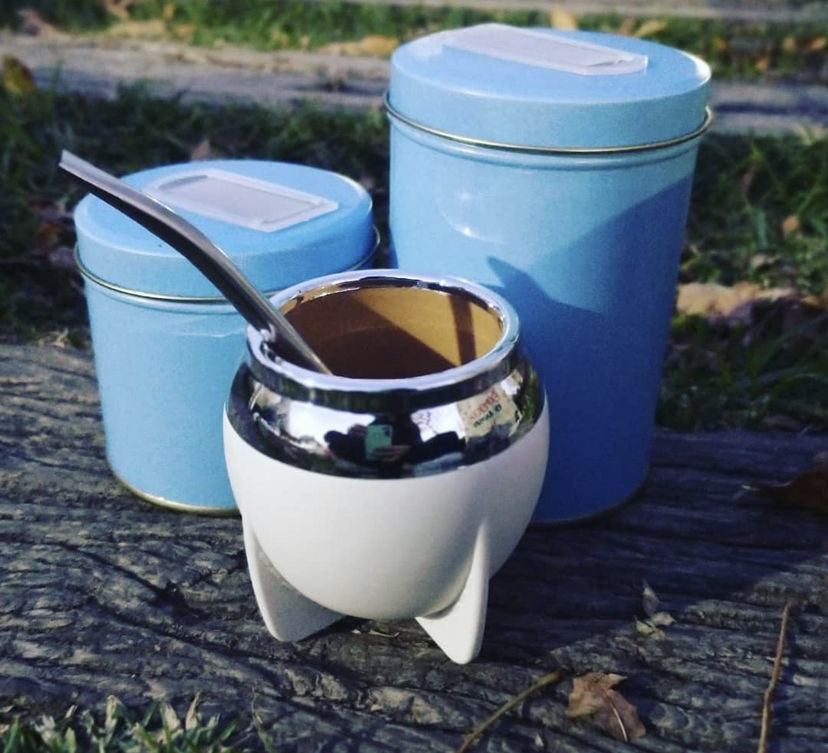calabaza: (222, 269, 551, 667)
mate: (192, 270, 570, 661)
